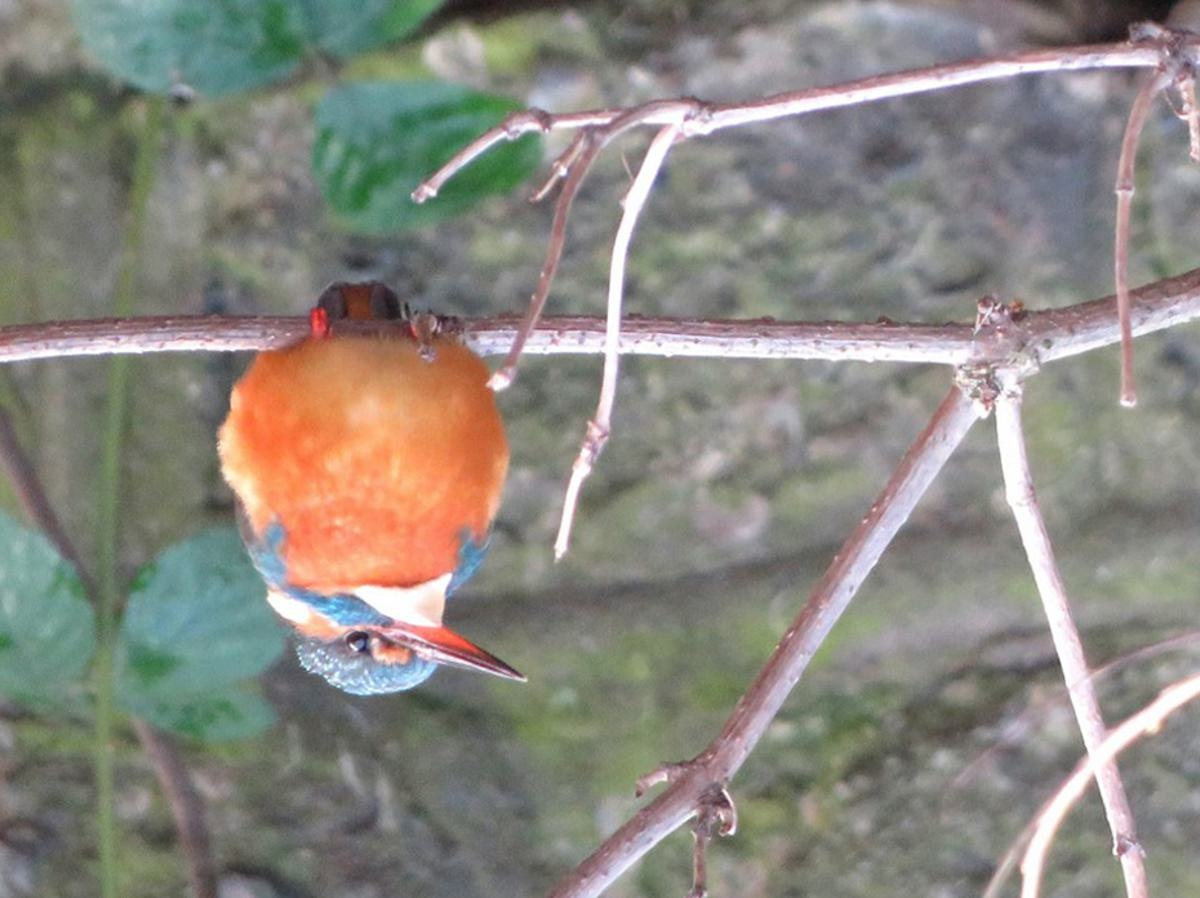kingfisher: (213, 283, 547, 731)
